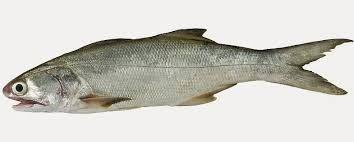Fourfinger Threadfish: (5, 26, 354, 113)
